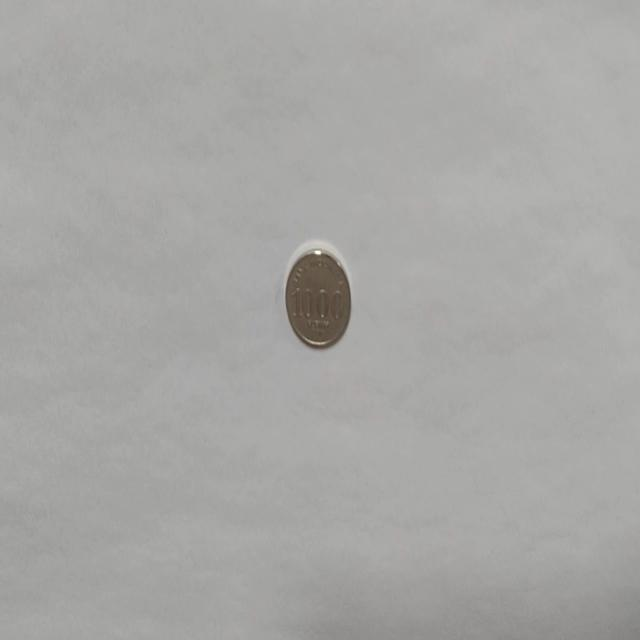seribu rupiah koin: (284, 240, 352, 350)
